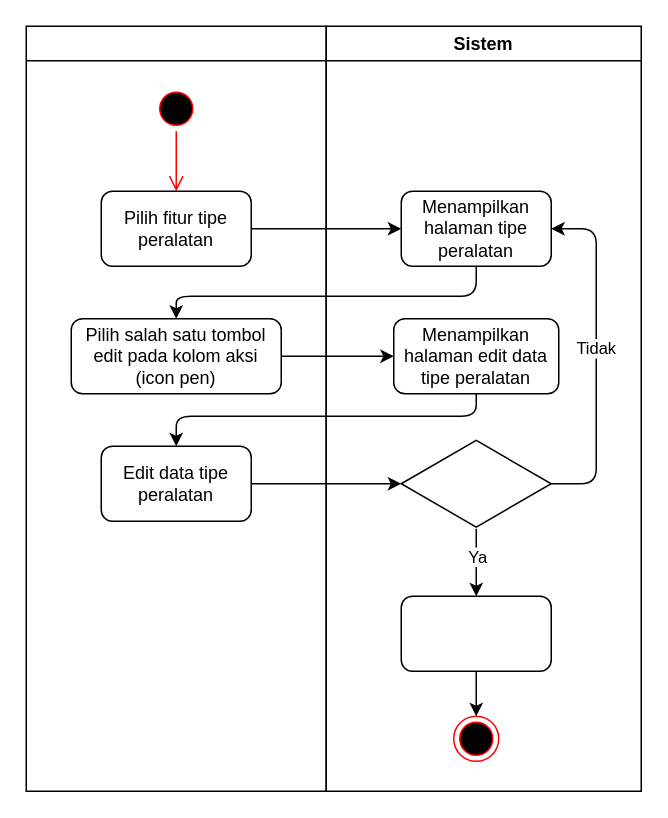
This 668x818 diagram has some shape labels left out. Here are the shapes that lost their labels. From the top down, the box of each, then its label:
(25, 25, 326, 791): User
(400, 437, 551, 529): Validasi data
(400, 595, 551, 671): Menyimpan perubahan data
